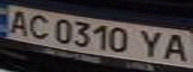0: (51, 16, 75, 46), (109, 25, 133, 55)
1: (90, 21, 109, 51)
3: (69, 19, 93, 48)
A: (160, 30, 193, 64), (3, 7, 33, 36)
C: (24, 11, 54, 39)
Y: (136, 28, 169, 60)
